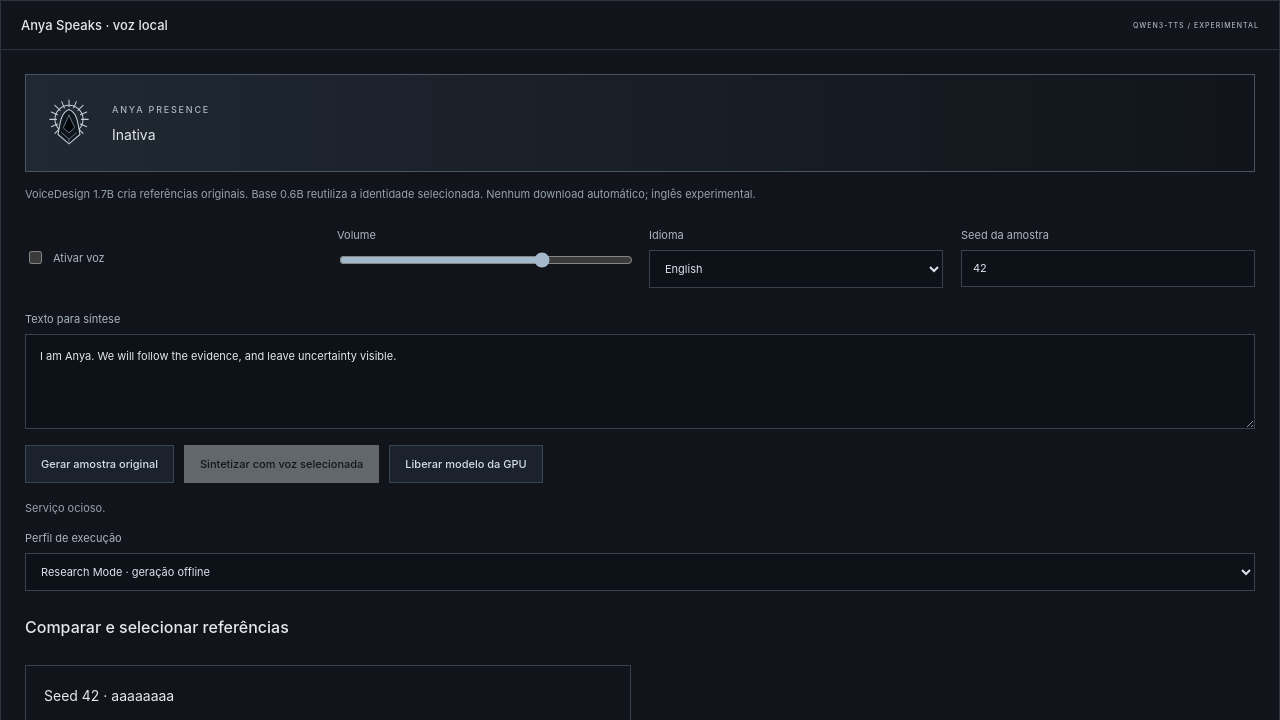
Scenario: voice controls › shows unavailability and retains the original experiment
What coordinates should you click on to do the following:
click the button "Gerar amostra original"
I would click on:
 (100, 464)
Its box is [25,445,174,483].
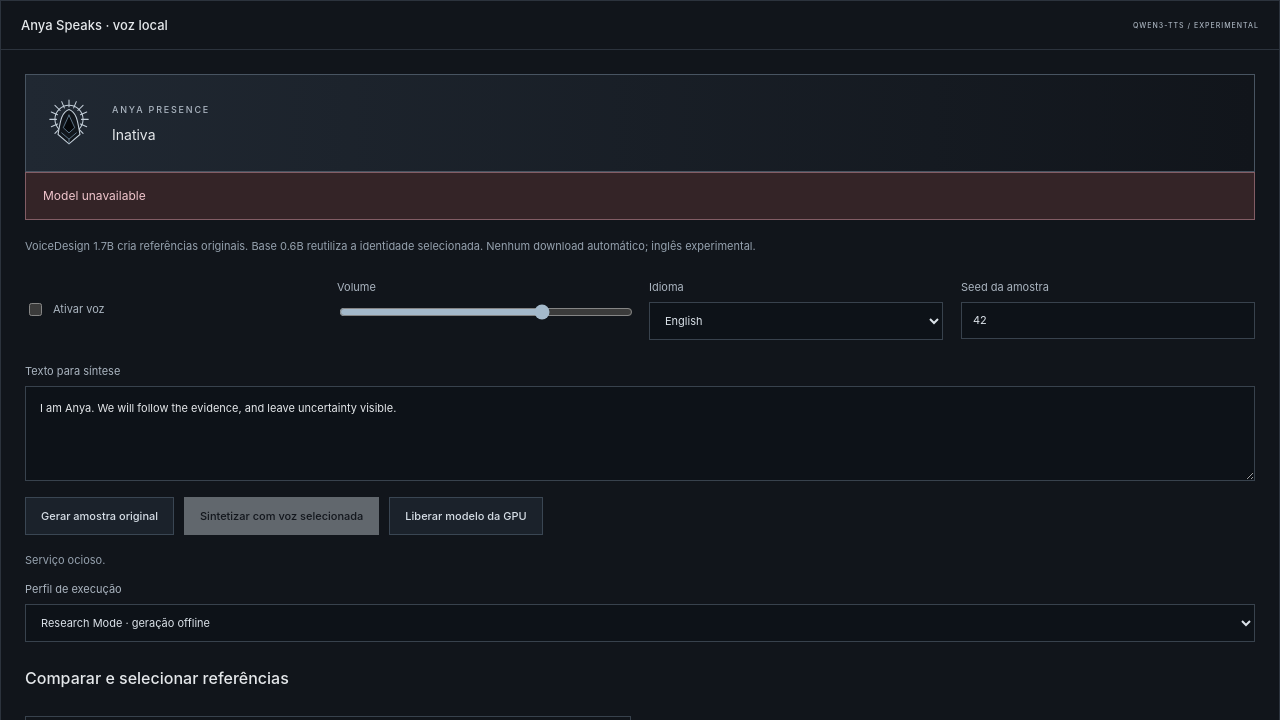
Expected: the message "Model unavailable" is shown, [25,172,1255,220]
